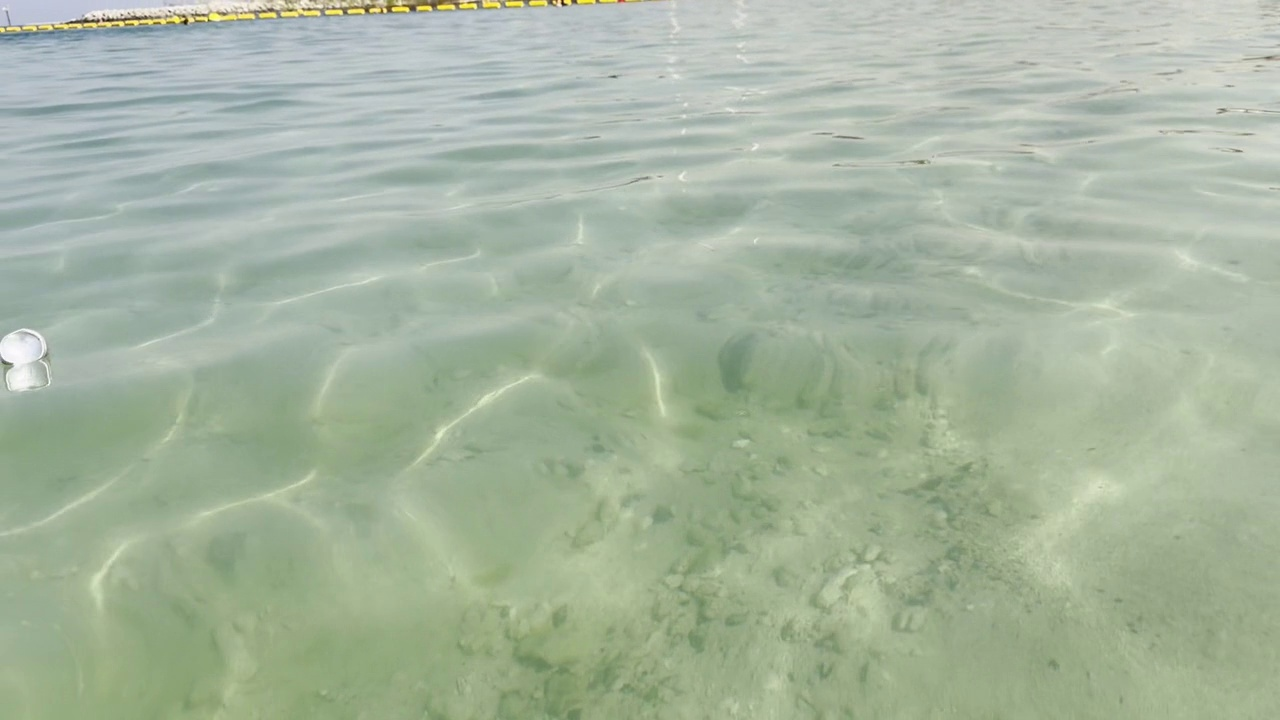debris: (1, 320, 50, 369)
